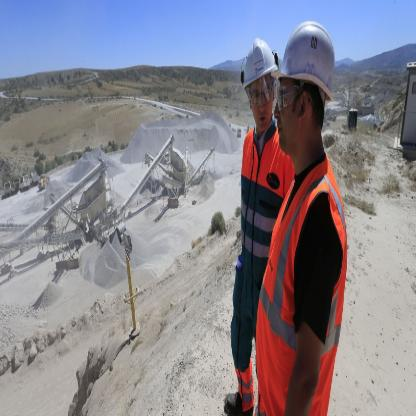person: (235, 4, 347, 415)
